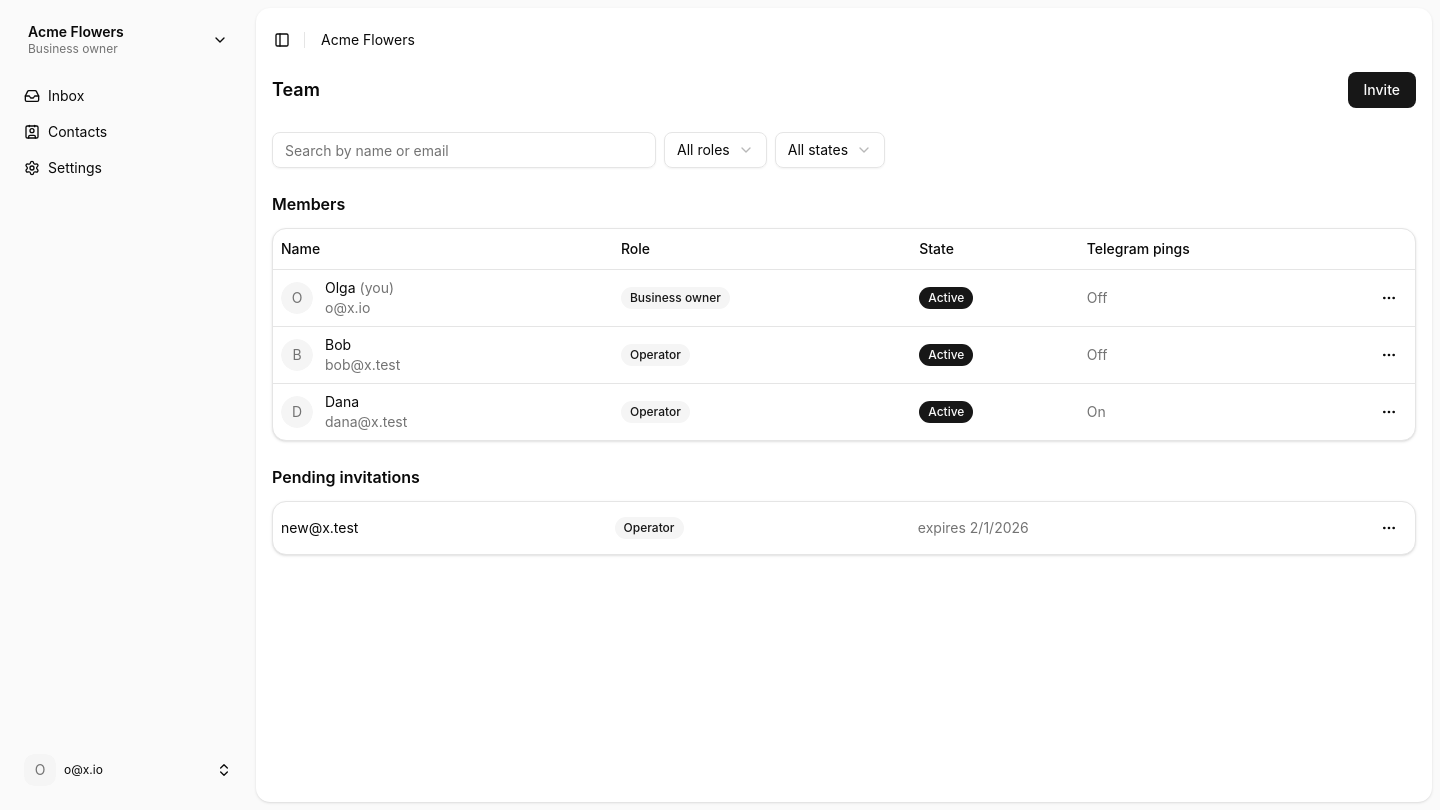
Test: TeamPage (SCR-07) › Telegram pings mark (AC-10, AC-12) › the deactivate confirmation adds the pings sentence only for a member shown On
The image size is (1440, 810).
Check: the text "Dana" is shown, box [325, 392, 359, 410]
Press Enter in the button named "Actions for dana@x.test", box [1371, 394, 1407, 430]
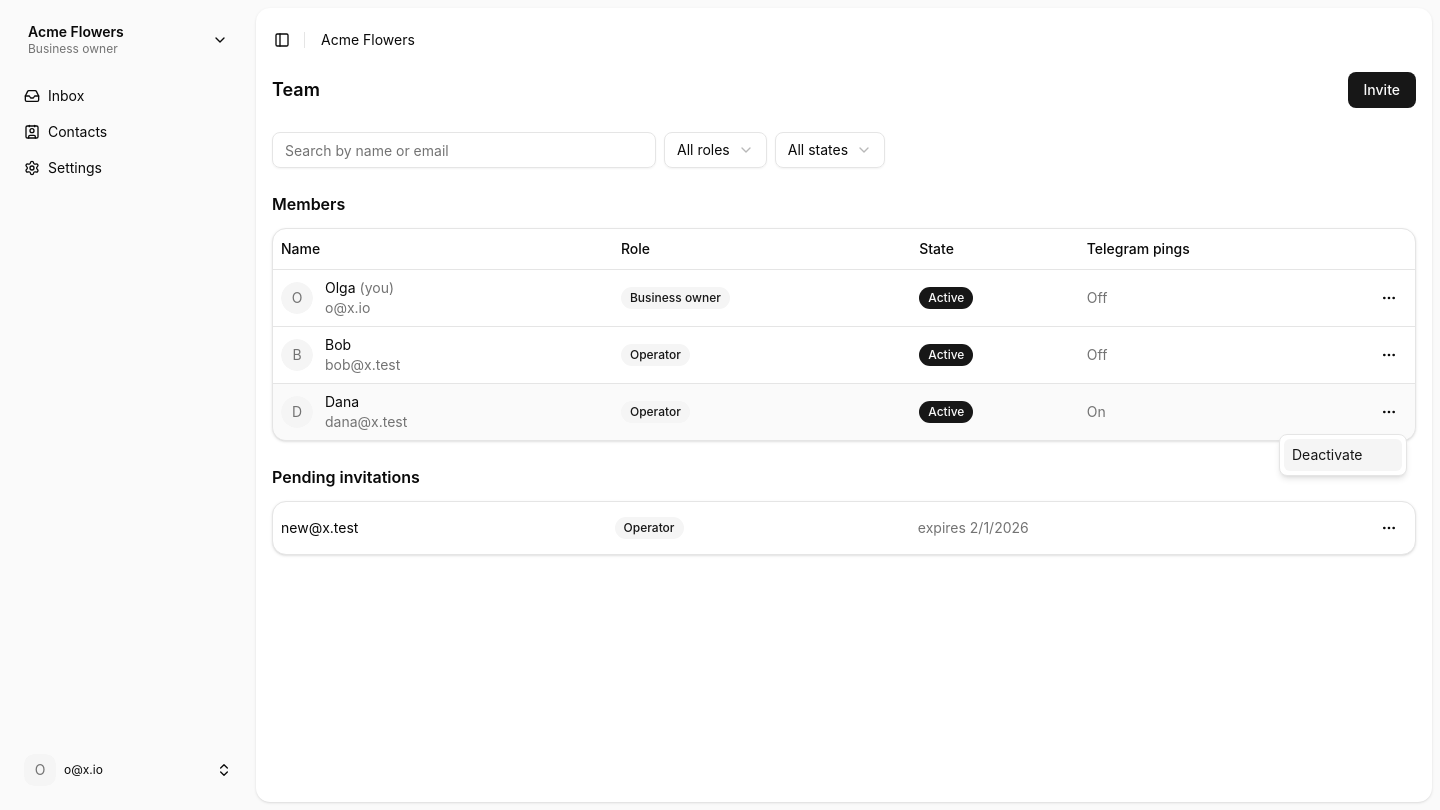
Click the menu item "Deactivate".
click(1343, 455)  # box [1284, 439, 1402, 471]
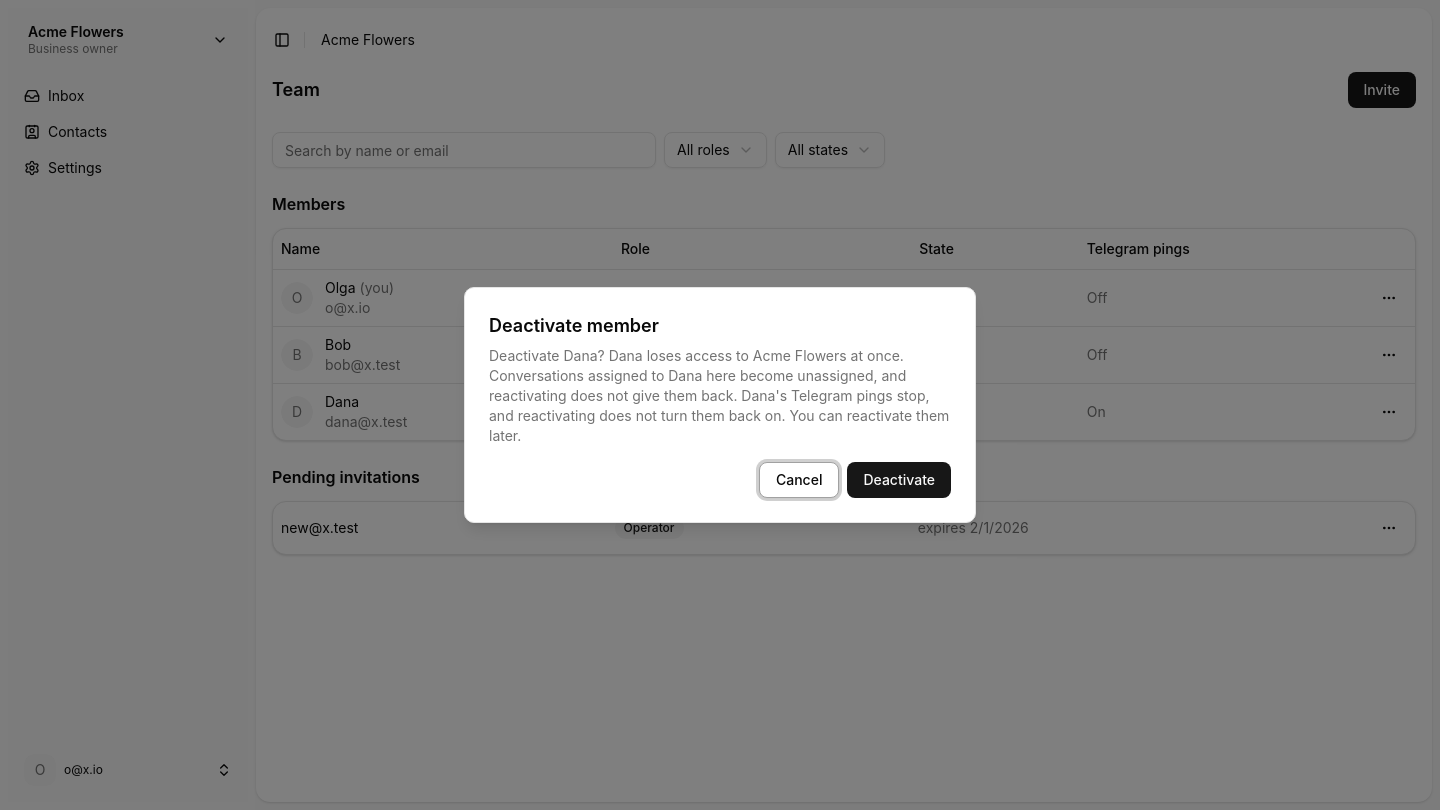
Check: the text "Deactivate Dana? Dana loses access to Acme Flowers at once. Conversations assigned to Dana here become unassigned, and r" is shown, box [489, 347, 949, 444]
